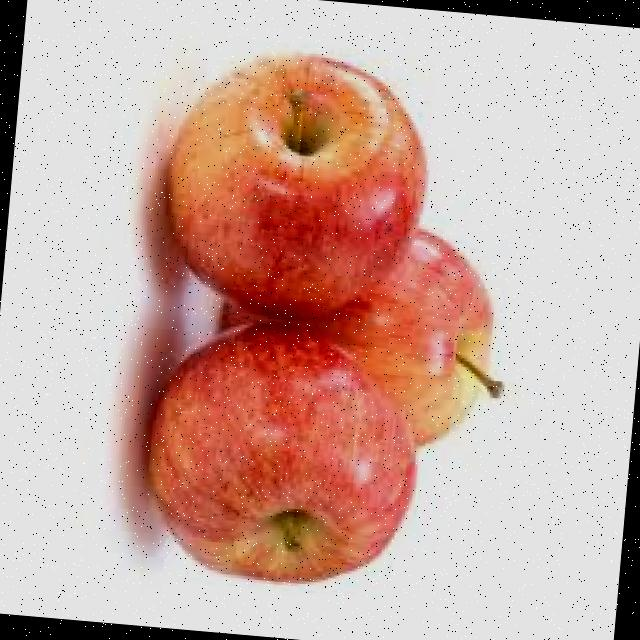apple: (134, 314, 428, 592), (157, 41, 437, 330)
